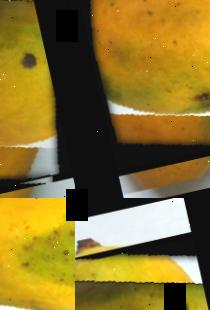Ripe: (75, 0, 210, 170), (0, 0, 73, 198), (75, 235, 210, 310), (0, 198, 75, 310)
